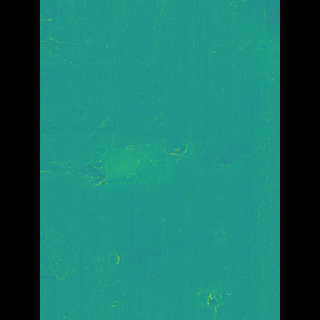Loch: (89, 127, 188, 192), (185, 280, 207, 309)
